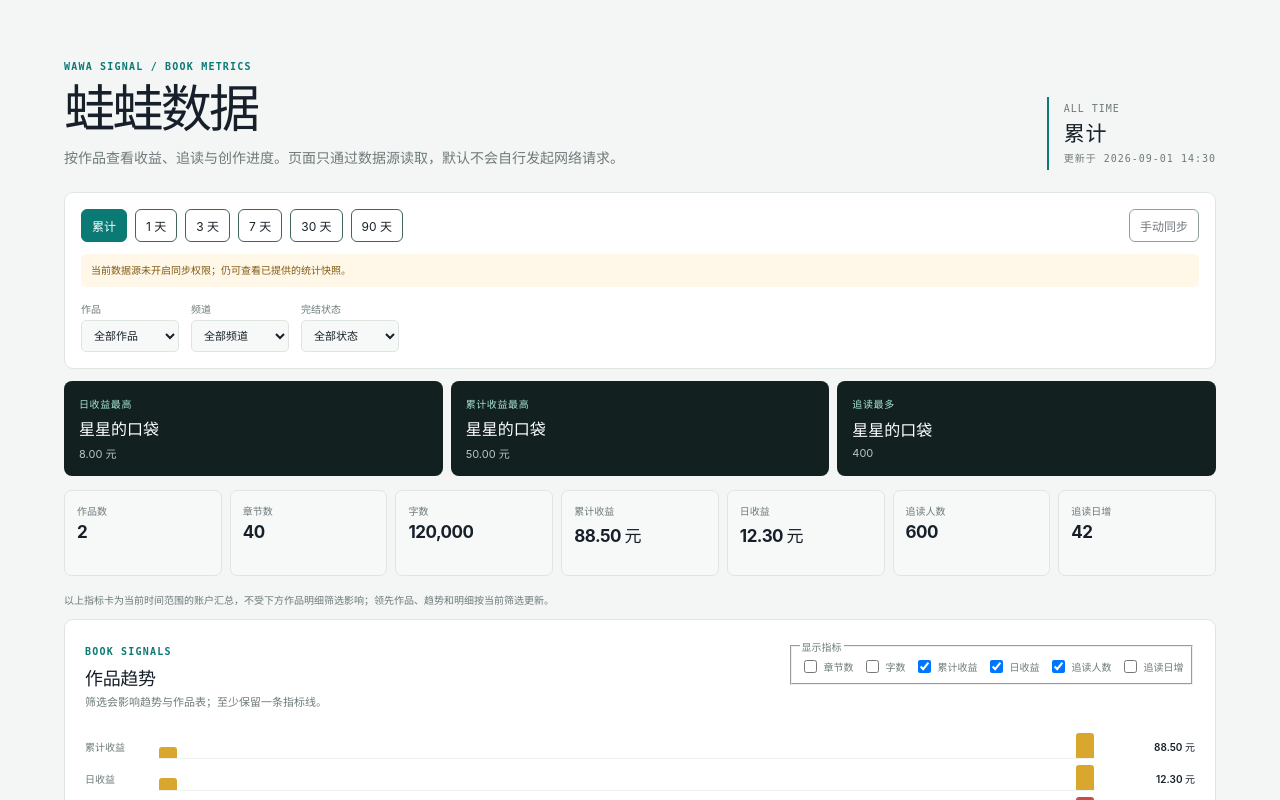
WawaStatsPage › keeps at least one trend metric visible
Click the checkbox labelled "累计收益".
click(924, 667)  # box [918,660,930,674]
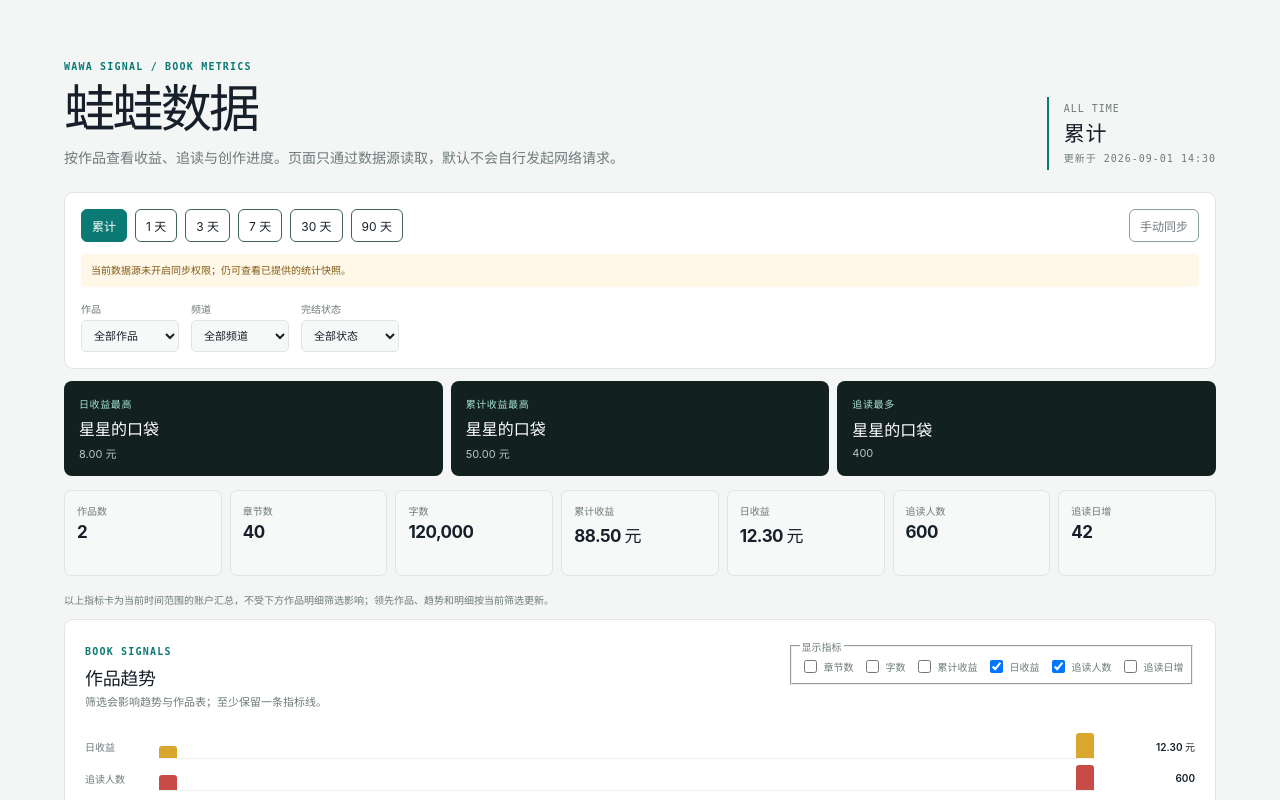
Click the checkbox labelled "日收益".
click(996, 667)  # box [990,660,1002,674]
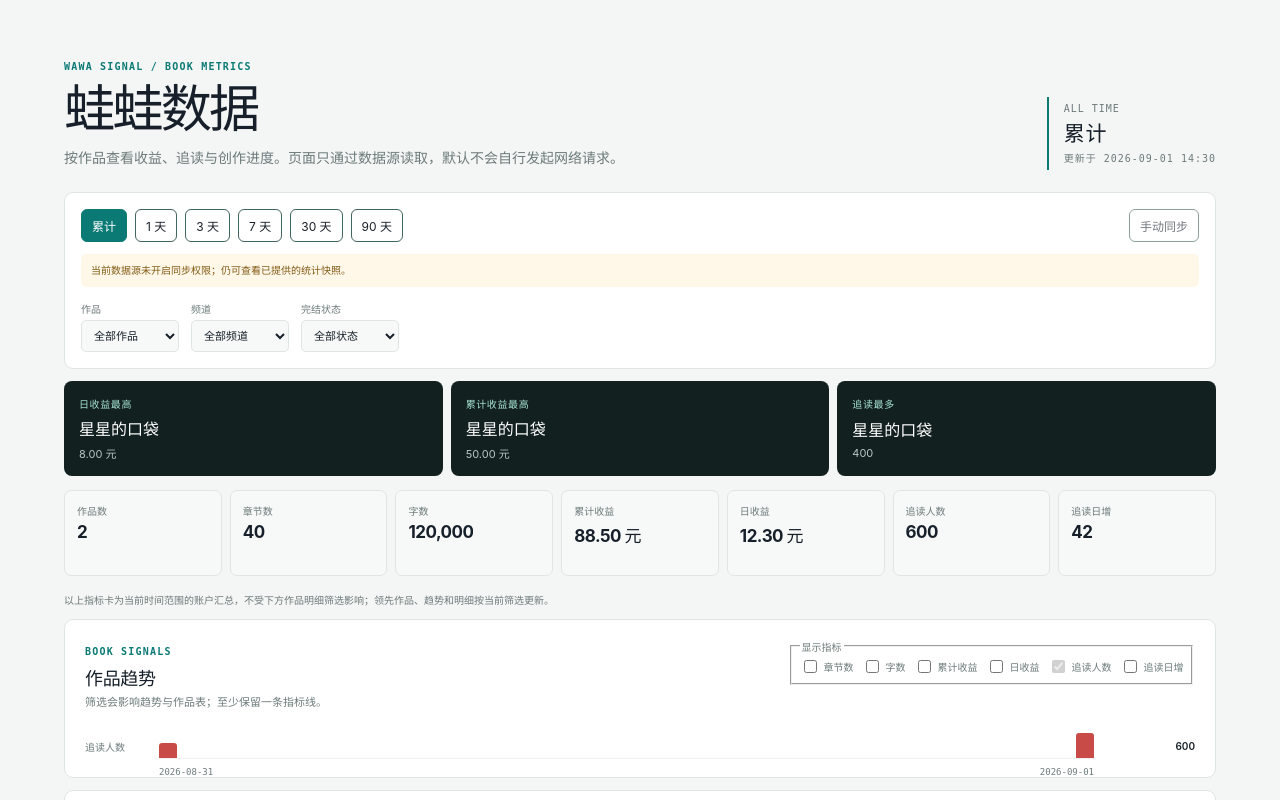
Expected: the checkbox labelled "追读人数" is checked, [1052,660,1064,674]
Expected: the checkbox labelled "追读人数" is disabled, [1052,660,1064,674]
